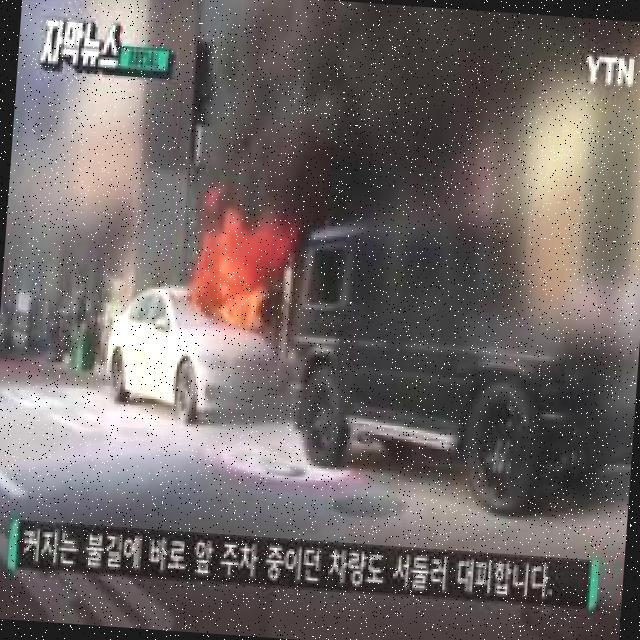Fire: (193, 230, 275, 329)
